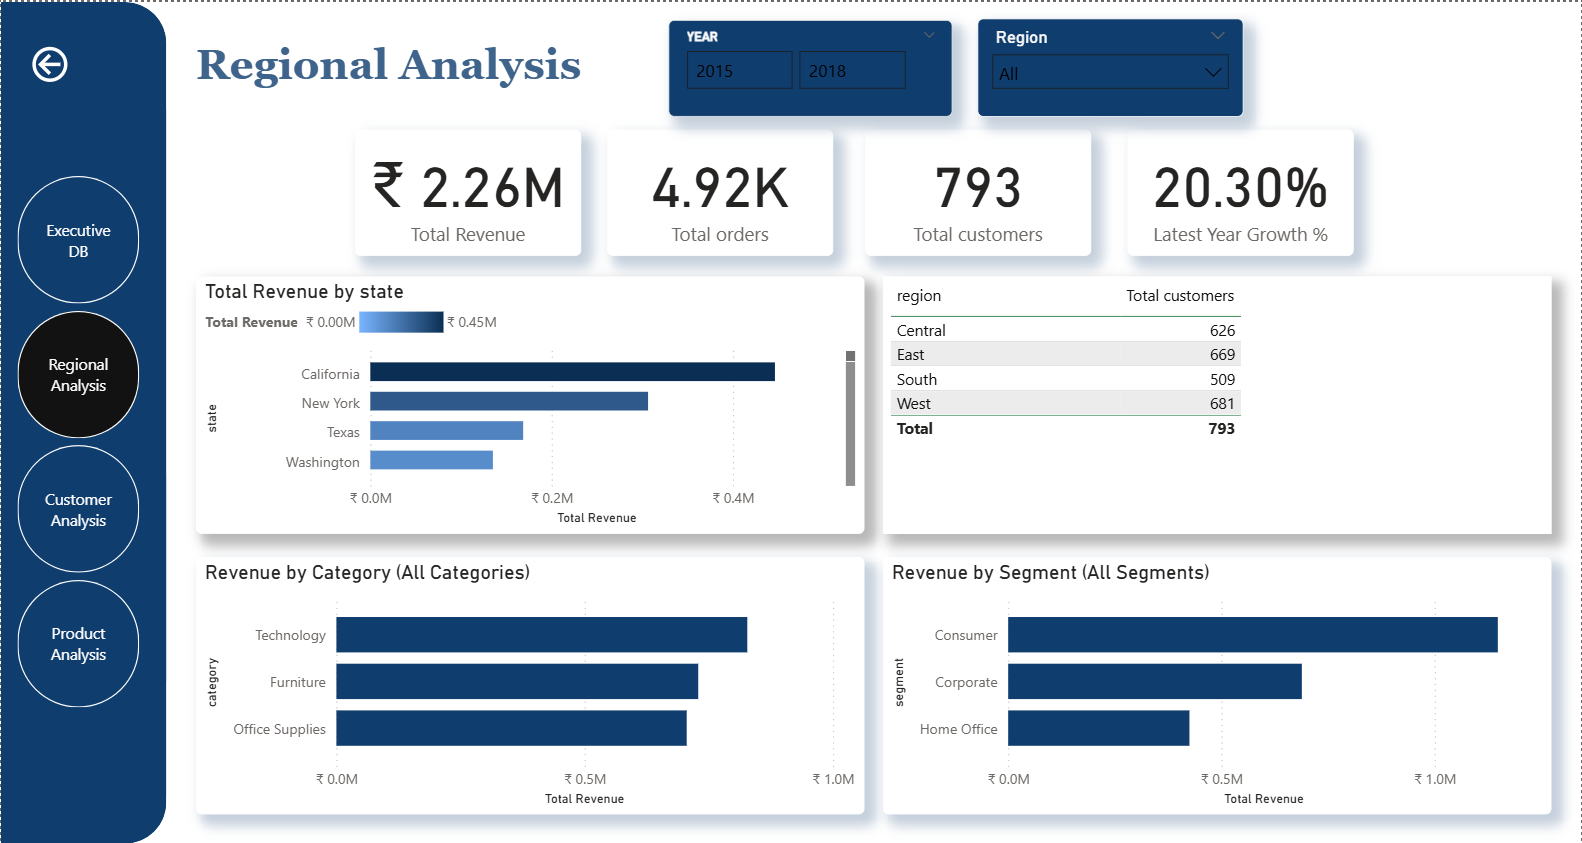

Layout of this report page (visuals, bound fields, positions):
{"tool":"powerbi","page":{"name":"Regional Analysis","canvas":[1350,720],"ordinal":1},"visuals":[{"type":"card","fields":{"Values":["superstore store.Total Revenue"]},"box":[302.9,108.6,193.3,108],"z":1000},{"type":"card","fields":{"Values":["superstore store.Total orders"]},"box":[517.9,108.6,193.3,108],"z":2000},{"type":"card","fields":{"Values":["superstore store.Total customers"]},"box":[737.9,108.6,193.3,108],"z":3000},{"type":"card","fields":{"Values":["superstore store.Latest Year Growth %"]},"box":[962.9,108.6,193.3,108],"z":4000},{"type":"clusteredBarChart","fields":{"Y":["superstore store.Total Revenue"],"Category":["superstore store.state"]},"box":[167.1,234.3,571.4,220],"z":5000},{"type":"barChart","fields":{"Category":["superstore store.category"],"Y":["superstore store.Total Revenue"]},"box":[167.1,474.3,571.4,220],"z":6000},{"type":"clusteredBarChart","fields":{"Category":["superstore store.segment"],"Y":["Divide(superstore store.Total Revenue, ScopedEval(superstore store.Total Revenue, []))"]},"box":[754.3,474.3,571.4,220],"z":7000},{"type":"tableEx","fields":{"Values":["superstore store.region","superstore store.Total customers"]},"box":[754.3,234.3,571.4,220],"z":8000},{"type":"shape","box":[167.1,20,351.4,65.7],"z":9000},{"type":"slicer","fields":{"Values":["superstore store.region"]},"box":[834.3,14.3,227.1,84.3],"z":10000},{"type":"shape","box":[0,0,141.4,678.6],"z":11000},{"type":"slicer","fields":{"Values":["DateTable.Year"]},"box":[570,15.7,242.9,82.9],"z":12000},{"type":"shape","box":[0,405.7,141.4,314.3],"z":13000},{"type":"pageNavigator","box":[14.3,148.6,104.3,457.1],"z":14000},{"type":"actionButton","box":[21.4,32.9,100,40],"z":14500}]}

Visuals, with their boxes in screenshot pixels (x1, y1, x2, y2), scaled from the page's 1350x720 canvas onto the 1582x843 screenshot:
card - superstore store.Total Revenue: 355,127,581,254
card - superstore store.Total orders: 607,127,833,254
card - superstore store.Total customers: 865,127,1091,254
card - superstore store.Latest Year Growth %: 1128,127,1355,254
clusteredBarChart - superstore store.Total Revenue x superstore store.state: 196,274,865,532
barChart - superstore store.category x superstore store.Total Revenue: 196,555,865,813
clusteredBarChart - superstore store.segment x Divide(superstore store.Total Revenue, ScopedEval(superstore store.Total Revenue, [])): 884,555,1554,813
tableEx - superstore store.region x superstore store.Total customers: 884,274,1554,532
shape: 196,23,608,100
slicer - superstore store.region: 978,17,1244,115
shape: 0,0,166,795
slicer - DateTable.Year: 668,18,953,115
shape: 0,475,166,842
pageNavigator: 17,174,139,709
actionButton: 25,39,142,85
